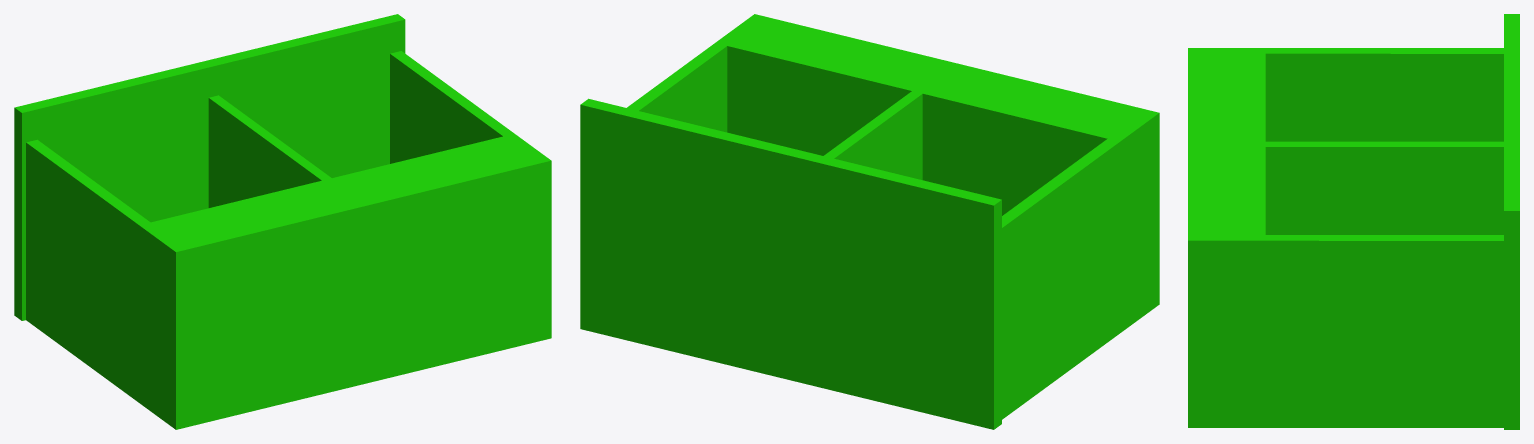
File: SM_Shelf_01_Collider.fbx
3 views of the same model, side by side, from view 1: azimuth 30°, elevation 25°; view 2: azimuth 150°, elevation 25°; view 3: azimuth 270°, elevation 25° (orthographic). The views are drawn at different scales.
Visible parts, largest first — view 1: SM_Shelf_01_Collider; view 2: SM_Shelf_01_Collider; view 3: SM_Shelf_01_Collider.
Part boxes in pixels (x1,y1,x2,y2): SM_Shelf_01_Collider: (14, 14, 551, 429); SM_Shelf_01_Collider: (580, 14, 1159, 429); SM_Shelf_01_Collider: (1188, 14, 1519, 429).
Bounding box in the file's own units: 144 × 74.75 × 103.
